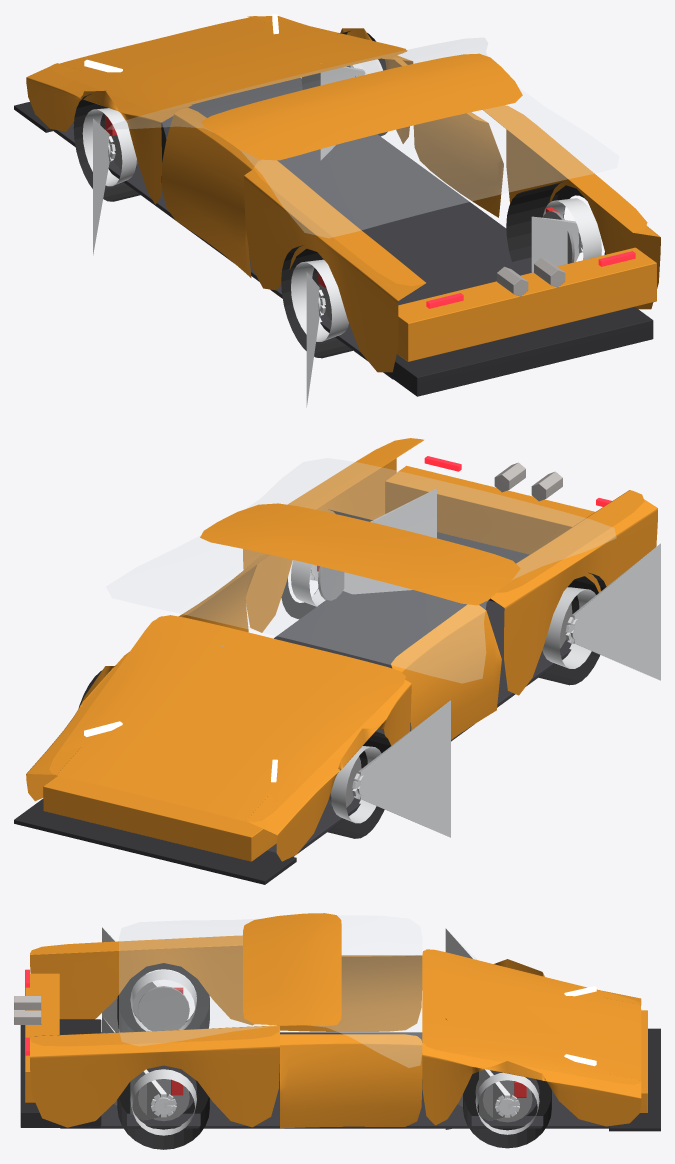
The model's file is Car_Lamborghini_Revuelto_2020s.glb.
The picture shows the model from 3 angles, top to bottom: view 1: azimuth 30°, elevation 25°; view 2: azimuth 150°, elevation 25°; view 3: azimuth 270°, elevation 25°; orthographic projection. The views are drawn at different scales.
Parts seen in each view (by area): view 1: GLASS_Canopy, BODY_Rear_Quarters, PLATFORM_Underbody, BODY_Roof_Panel, BODY_Hood, BODY_Doors, BODY_Rear_Fascia, AERO_Rear_Diffuser, BODY_Front_Fenders, WHEEL_RR_Rim, WHEEL_RL_Rim, WHEEL_FR_Rim (+6 smaller); view 2: GLASS_Canopy, BODY_Hood, BODY_Rear_Quarters, BODY_Roof_Panel, BODY_Doors, PLATFORM_Underbody, WHEEL_RR_Rim, WHEEL_FR_Rim, BODY_Rear_Fascia, BODY_Front_Fenders, BODY_Front_Fascia, AERO_Front_Splitter (+7 smaller); view 3: BODY_Rear_Quarters, GLASS_Canopy, BODY_Hood, BODY_Doors, BODY_Roof_Panel, BODY_Front_Fenders, PLATFORM_Underbody, WHEEL_RL_Rim, WHEEL_FL_Tire, WHEEL_RL_Tire, WHEEL_FL_Rim, BODY_Rear_Fascia (+11 smaller).
Boxes of the visible parts, box(x1,y1,x2,y2) form: GLASS_Canopy: box(107, 38, 618, 237); BODY_Rear_Quarters: box(244, 105, 660, 372); PLATFORM_Underbody: box(53, 78, 531, 379); BODY_Roof_Panel: box(201, 53, 522, 160); BODY_Hood: box(49, 16, 407, 111); BODY_Doors: box(162, 57, 503, 277); BODY_Rear_Fascia: box(397, 247, 656, 361); AERO_Rear_Diffuser: box(384, 307, 653, 396); BODY_Front_Fenders: box(26, 16, 413, 204); WHEEL_RR_Rim: box(291, 259, 348, 407); WHEEL_RL_Rim: box(531, 198, 601, 272); WHEEL_FR_Rim: box(82, 108, 136, 255); GLASS_Canopy: box(106, 458, 616, 683); BODY_Hood: box(49, 615, 405, 821); BODY_Rear_Quarters: box(243, 438, 657, 695); BODY_Roof_Panel: box(200, 503, 520, 605); BODY_Doors: box(179, 554, 501, 739); PLATFORM_Underbody: box(267, 590, 571, 856); WHEEL_RR_Rim: box(542, 543, 660, 680); WHEEL_FR_Rim: box(331, 700, 450, 837); BODY_Rear_Fascia: box(385, 465, 594, 554); BODY_Front_Fenders: box(26, 616, 411, 861); BODY_Front_Fascia: box(43, 776, 276, 861); AERO_Front_Splitter: box(14, 799, 296, 884); BODY_Rear_Quarters: box(30, 935, 279, 1127); GLASS_Canopy: box(119, 915, 421, 1067); BODY_Hood: box(422, 949, 641, 1084); BODY_Doors: box(280, 955, 422, 1128); BODY_Roof_Panel: box(243, 913, 341, 1025); BODY_Front_Fenders: box(422, 949, 641, 1126); PLATFORM_Underbody: box(60, 1032, 608, 1128); WHEEL_RL_Rim: box(102, 1016, 196, 1135); WHEEL_FL_Tire: box(463, 1071, 551, 1148); WHEEL_RL_Tire: box(117, 1080, 209, 1149); WHEEL_FL_Rim: box(445, 1018, 539, 1134); BODY_Rear_Fascia: box(25, 973, 59, 1102).
Size of the model in its own units: 2.86 by 1.3 by 5.23.
